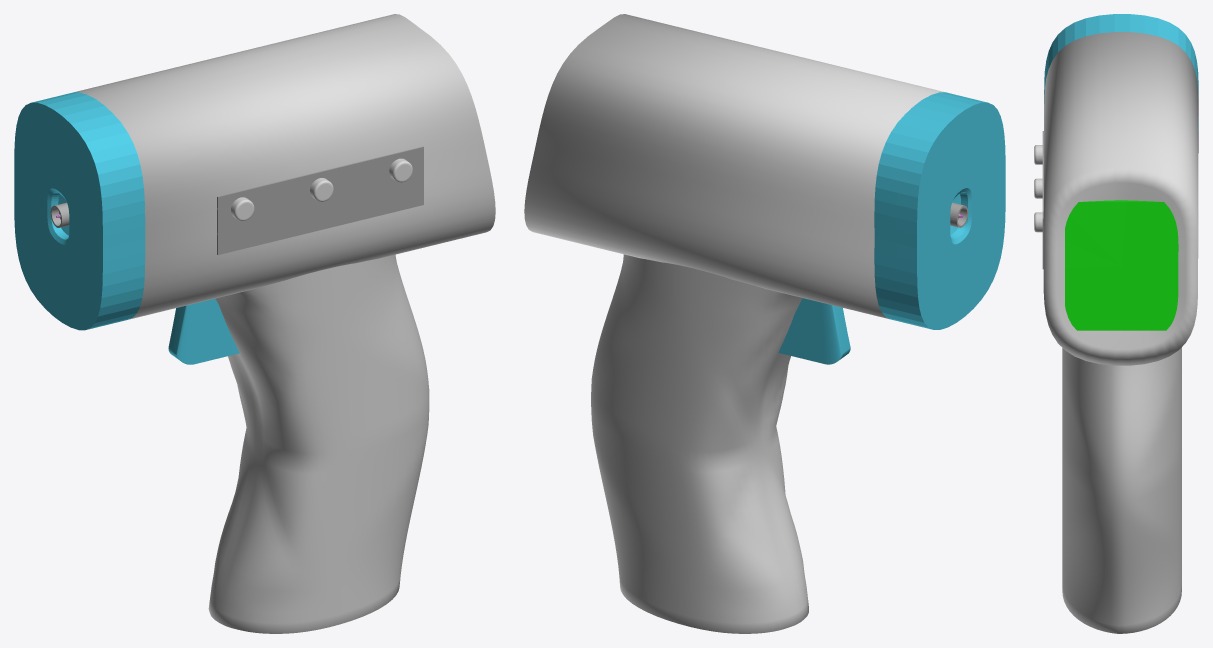
File: thermometer.fbx
The picture shows the model from 3 angles, left to right: view 1: azimuth 30°, elevation 25°; view 2: azimuth 150°, elevation 25°; view 3: azimuth 270°, elevation 25°; orthographic projection. The views are drawn at different scales.
Parts seen in each view (by area): view 1: 円柱.001, 円柱, 円柱.002, 立方体.001, 立方体; view 2: 円柱.001, 円柱, 円柱.002, 立方体; view 3: 円柱.001, 円柱, glass, 円柱.002, 立方体.001.
Boxes of the visible parts, x1=… form: 円柱.001: x1=74, y1=14, x2=495, y2=319; 円柱: x1=208, y1=254, x2=429, y2=633; 円柱.002: x1=14, y1=92, x2=145, y2=330; 立方体.001: x1=217, y1=146, x2=423, y2=254; 立方体: x1=168, y1=298, x2=239, y2=364; 円柱.001: x1=524, y1=14, x2=944, y2=319; 円柱: x1=591, y1=254, x2=808, y2=633; 円柱.002: x1=874, y1=92, x2=1005, y2=329; 立方体: x1=778, y1=298, x2=850, y2=364; 円柱.001: x1=1043, y1=32, x2=1198, y2=365; 円柱: x1=1062, y1=347, x2=1181, y2=633; glass: x1=1065, y1=200, x2=1178, y2=330; 円柱.002: x1=1044, y1=14, x2=1198, y2=130; 立方体.001: x1=1042, y1=131, x2=1043, y2=269.
Bounding box in the file's own units: 2.04 × 2.64 × 0.8233.
